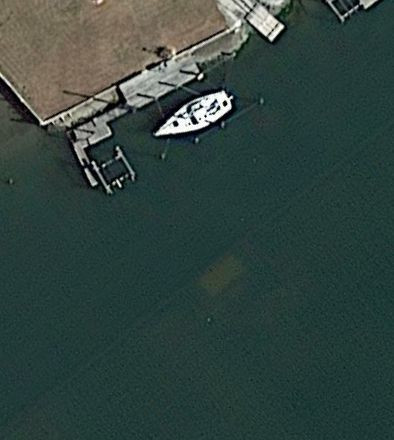boat: (151, 91, 236, 141)
